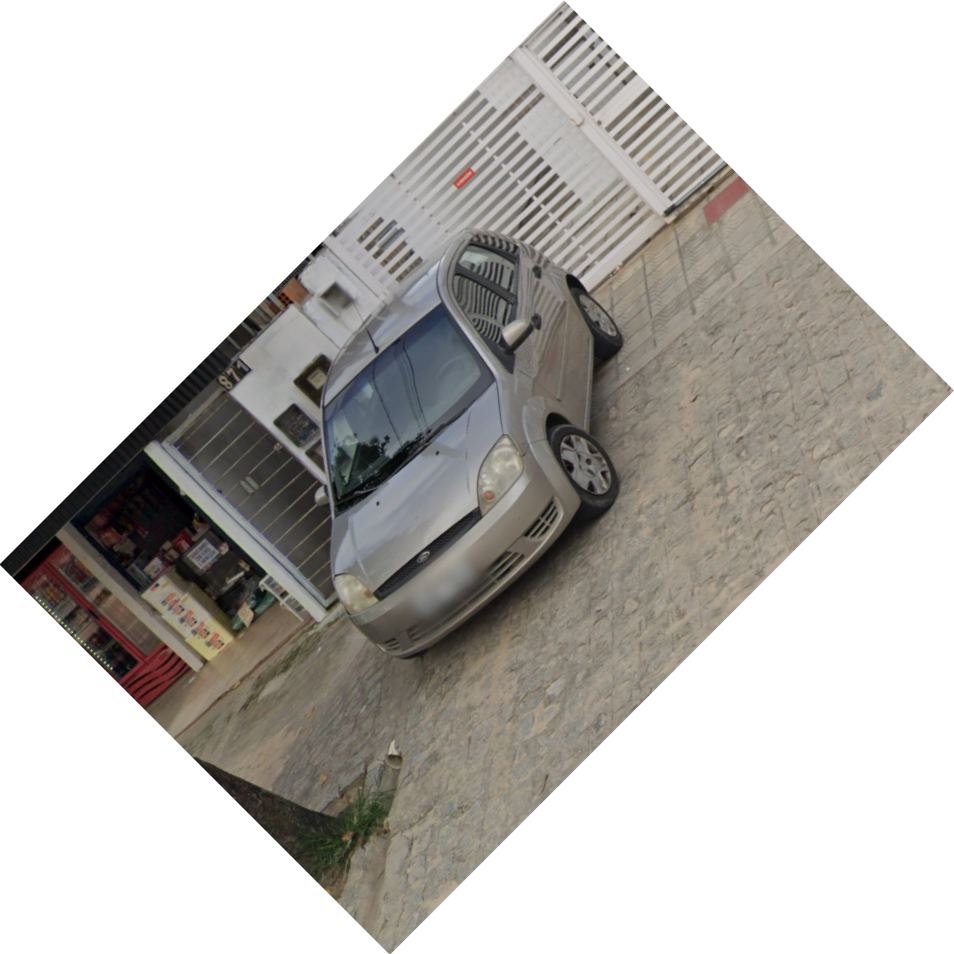car: (309, 216, 625, 662)
